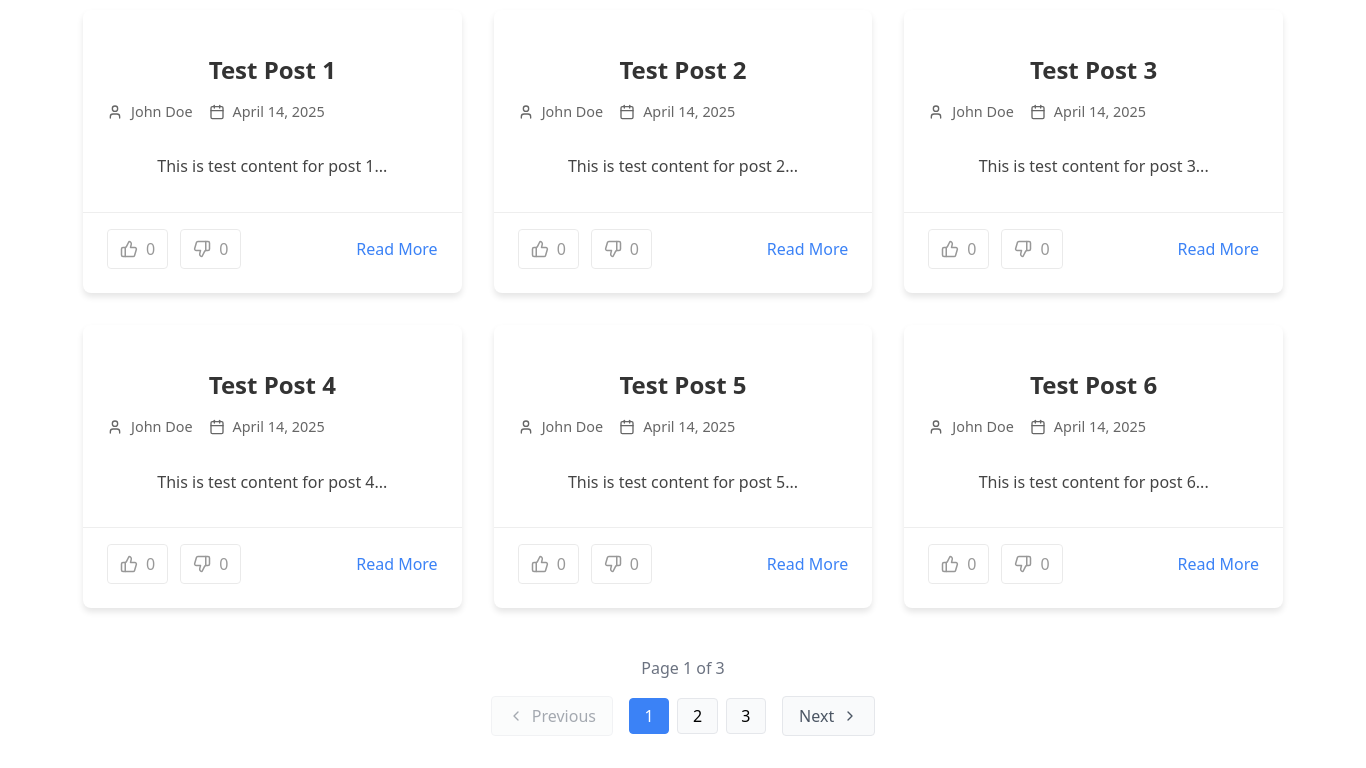
it: ListPosts Component › handles client-side pagination correctly
(page scrolled)
Expected: the text "Page 1 of 3" is shown, [641,656,725,680]
Click next page
What coordinates should you click on to do the following:
click the button "Next"
I would click on:
 (829, 716)
Its box is [782,696,875,736].
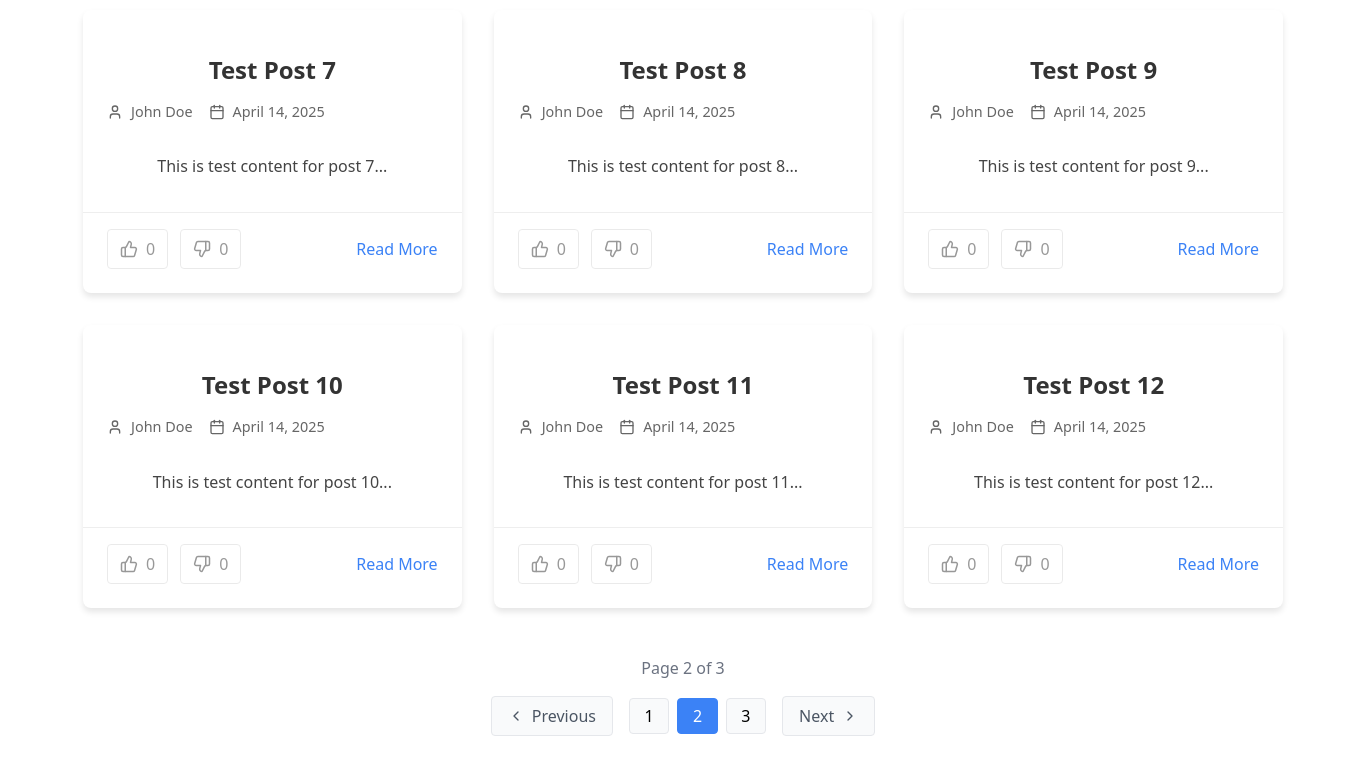
Now the text "Page 2 of 3" is shown, box [641,656,725,680]
